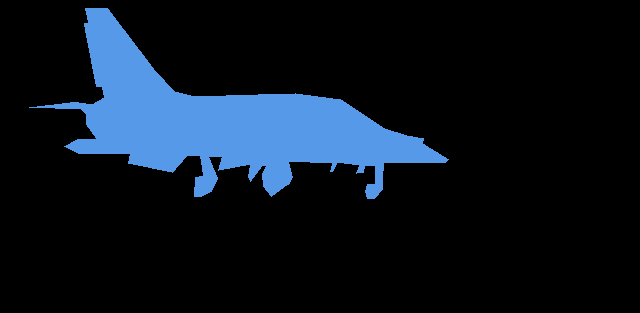Airplane: (29, 8, 448, 199)
